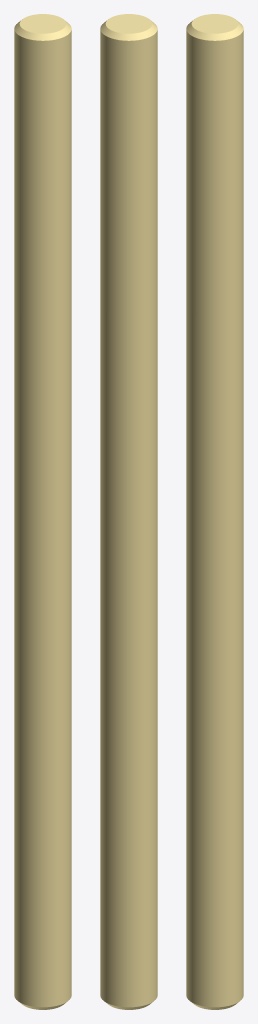
File: Rod v2.glb
The picture shows the model from 3 angles, left to right: view 1: azimuth 90°, elevation 25°; view 2: azimuth 150°, elevation 25°; view 3: azimuth 270°, elevation 25°; orthographic projection.
Visible parts, largest first — view 1: Rod v2; view 2: Rod v2; view 3: Rod v2.
Part boxes in pixels (left/top/right/bottom): Rod v2: left=14, top=14, right=71, bottom=1009; Rod v2: left=100, top=14, right=157, bottom=1009; Rod v2: left=186, top=14, right=243, bottom=1009.
Bounding box in the file's own units: 0.016 × 0.3 × 0.016.
Materials: 1 (1 with a texture image).
